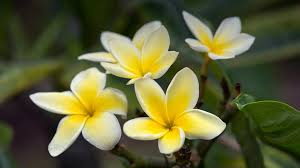frangipani: (28, 69, 127, 156)
